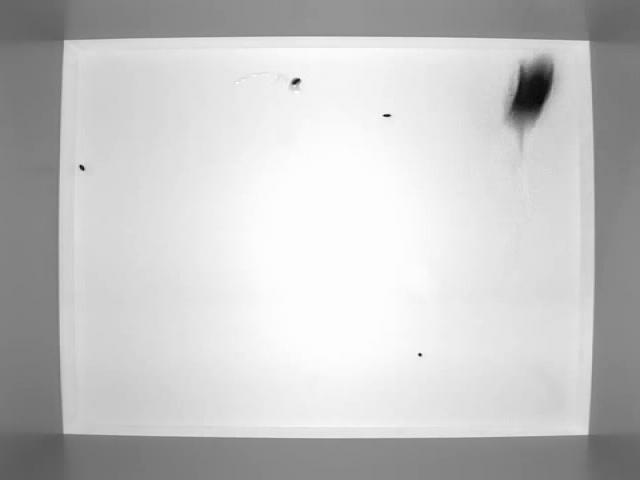Tikus: (508, 55, 556, 160)
